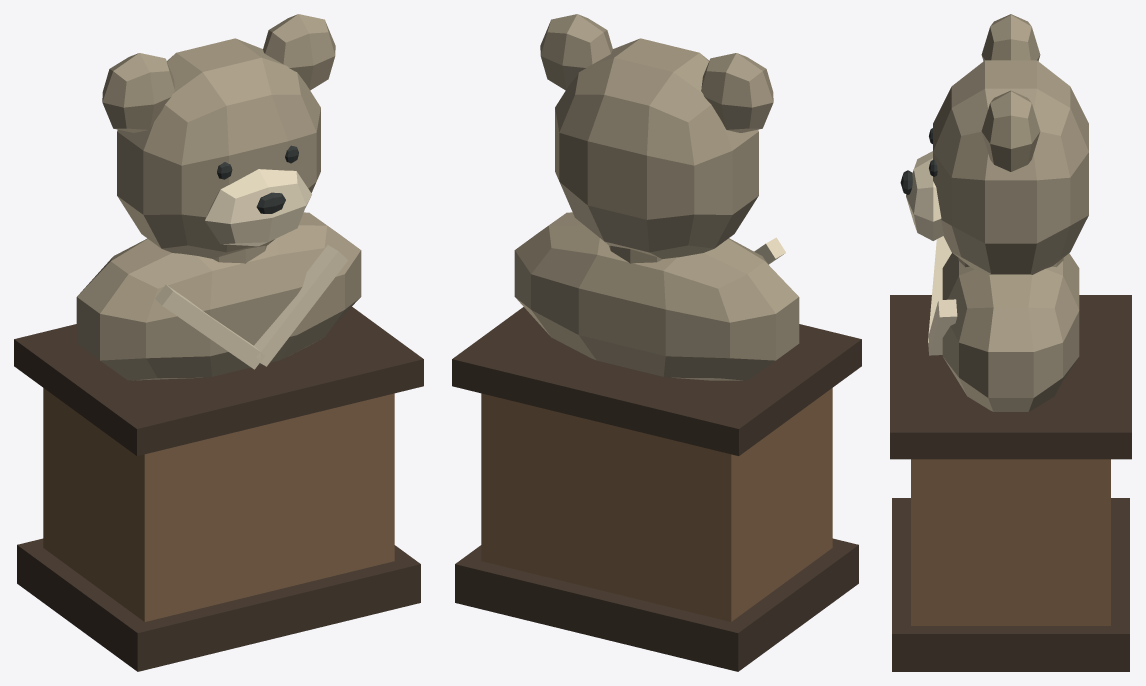
File: 02_Memorial_Bust.fbx
3 views of the same model, side by side, from view 1: azimuth 30°, elevation 25°; view 2: azimuth 150°, elevation 25°; view 3: azimuth 270°, elevation 25° (orthographic).
Visible parts, largest first — view 1: Structure.001, Bust; view 2: Structure.001, Bust; view 3: Structure.001, Bust.
Part boxes in pixels (<box>): Structure.001: <box>14,307,423,671</box>; Bust: <box>76,14,361,380</box>; Structure.001: <box>452,307,861,671</box>; Bust: <box>514,14,799,380</box>; Structure.001: <box>890,295,1131,671</box>; Bust: <box>900,14,1088,411</box>.
Bounding box in the file's own units: 155 × 289 × 115.
